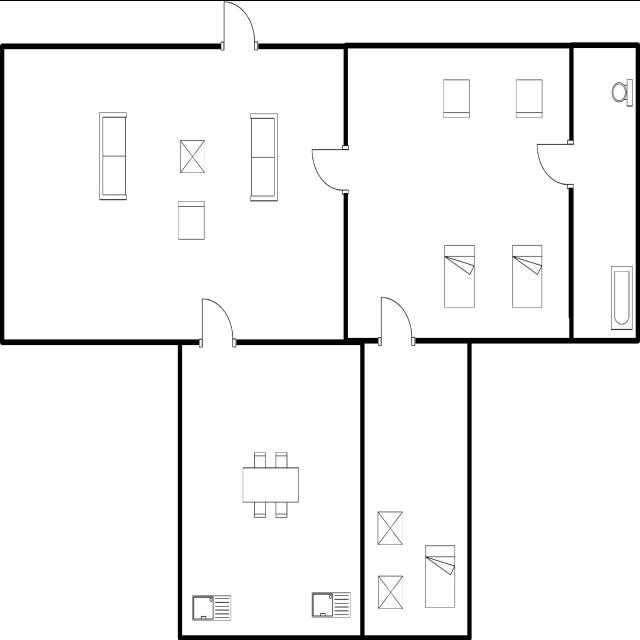bed: (506, 236, 546, 314), (418, 538, 458, 614), (439, 239, 478, 315)
coffee_table: (173, 133, 210, 177), (375, 571, 411, 613), (372, 508, 408, 550)
dining_table: (238, 447, 306, 523)
large_sink: (607, 72, 635, 116)
large_sofa: (94, 104, 136, 207), (246, 108, 282, 207)
sink: (188, 588, 236, 624), (308, 586, 356, 620)
small_sofa: (512, 73, 546, 128), (439, 75, 474, 126), (173, 198, 210, 245)
tub: (604, 260, 638, 334)
